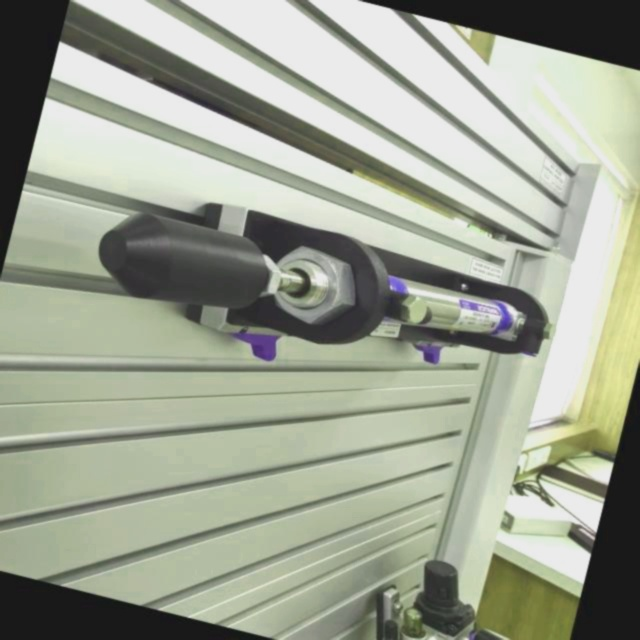double acting pneumatic cylinder: (77, 172, 568, 434)
